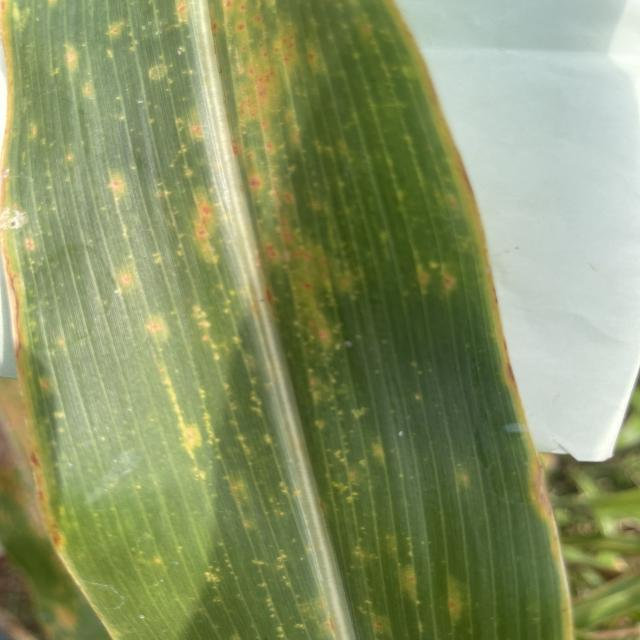millet_rust: (1, 0, 573, 640)
